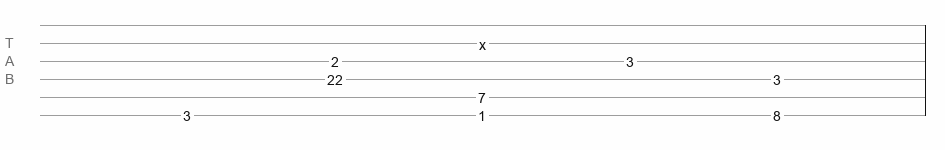1: (478, 108, 486, 118)
2: (331, 54, 339, 64)
22: (327, 72, 343, 82)
3: (183, 108, 191, 118), (626, 54, 634, 64), (773, 72, 781, 82)
7: (478, 90, 486, 100)
8: (773, 108, 781, 118)
x: (479, 37, 486, 45)
